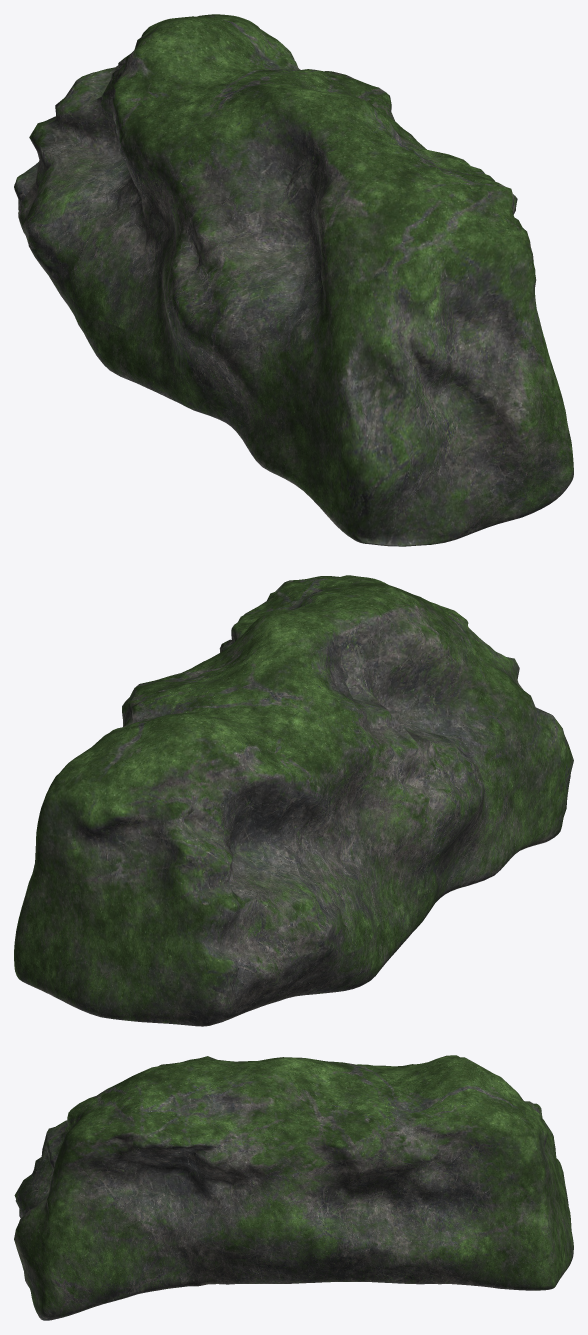
Rendered from obs1.fbx.
3 views of the same model, one above another, from view 1: azimuth 30°, elevation 25°; view 2: azimuth 150°, elevation 25°; view 3: azimuth 270°, elevation 25° (orthographic). The views are drawn at different scales.
Parts seen in each view (by area): view 1: 2x1obs; view 2: 2x1obs; view 3: 2x1obs.
Part boxes in pixels (x1=…): 2x1obs: x1=14, y1=14, x2=573, y2=546; 2x1obs: x1=14, y1=575, x2=573, y2=1026; 2x1obs: x1=14, y1=1055, x2=573, y2=1320.
Size of the model in its own units: 210 by 214 by 458.
Materials: 1 (1 with a texture image).
